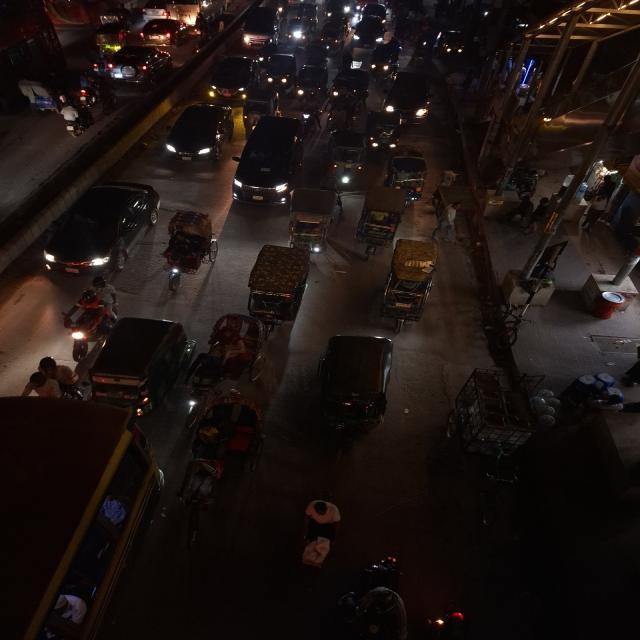car: (35, 178, 161, 280), (231, 116, 308, 208), (161, 103, 235, 166), (381, 69, 441, 124), (106, 44, 177, 90), (205, 52, 261, 103), (135, 18, 191, 47), (241, 8, 279, 49), (350, 19, 383, 48)
cng: (85, 315, 193, 405), (322, 334, 394, 451), (324, 128, 366, 186), (366, 114, 403, 154), (331, 69, 369, 106), (294, 65, 327, 106), (265, 52, 296, 93), (322, 24, 344, 53)
motorcycle: (59, 278, 117, 350), (59, 100, 99, 137)
pedestrian: (437, 198, 460, 244)
rickshaw: (182, 397, 263, 540), (238, 242, 314, 338), (196, 308, 268, 394), (379, 237, 434, 334), (162, 205, 222, 292), (354, 182, 399, 259), (286, 187, 336, 249), (387, 154, 433, 210), (9, 72, 60, 116)
